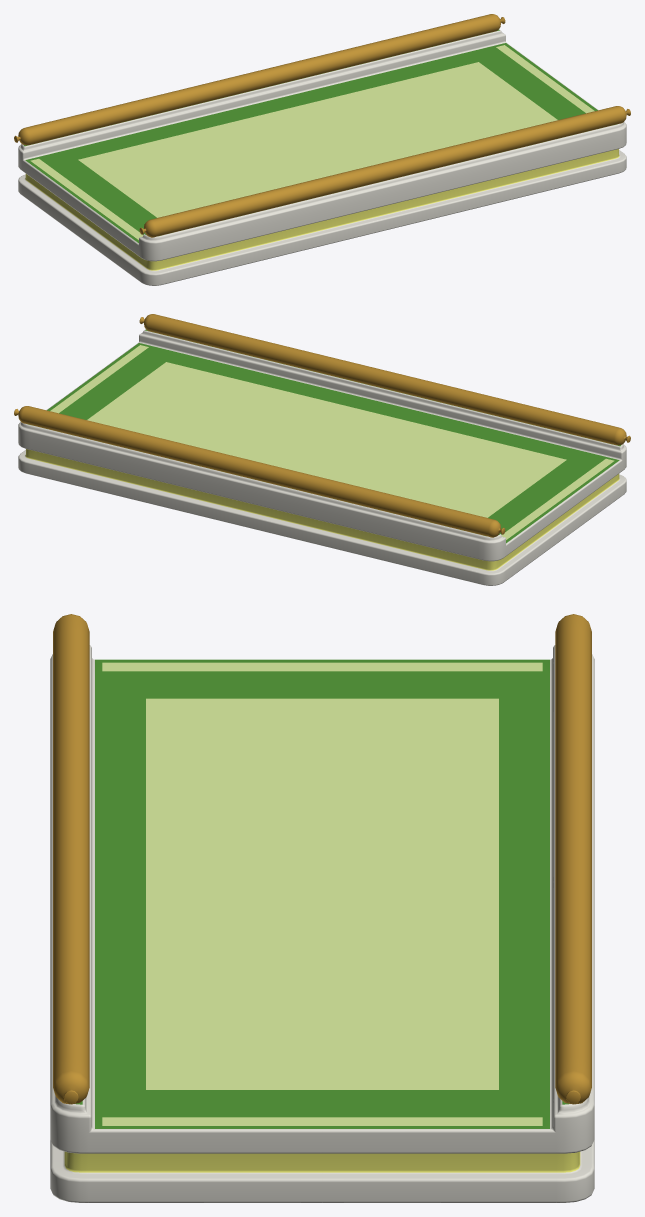
The model's file is SM_Long_Platform_01.fbx.
3 renders of one model, top to bottom at view 1: azimuth 30°, elevation 25°; view 2: azimuth 150°, elevation 25°; view 3: azimuth 270°, elevation 25°, orthographic. The views are drawn at different scales.
Visible parts, largest first — view 1: SM_Long_Platform_01; view 2: SM_Long_Platform_01; view 3: SM_Long_Platform_01.
Boxes of the visible parts, bbox=[...] form: SM_Long_Platform_01: bbox=[14, 14, 630, 285]; SM_Long_Platform_01: bbox=[14, 314, 630, 585]; SM_Long_Platform_01: bbox=[50, 614, 594, 1202].
Bounding box in the file's own units: 2765 × 339 × 1335.
